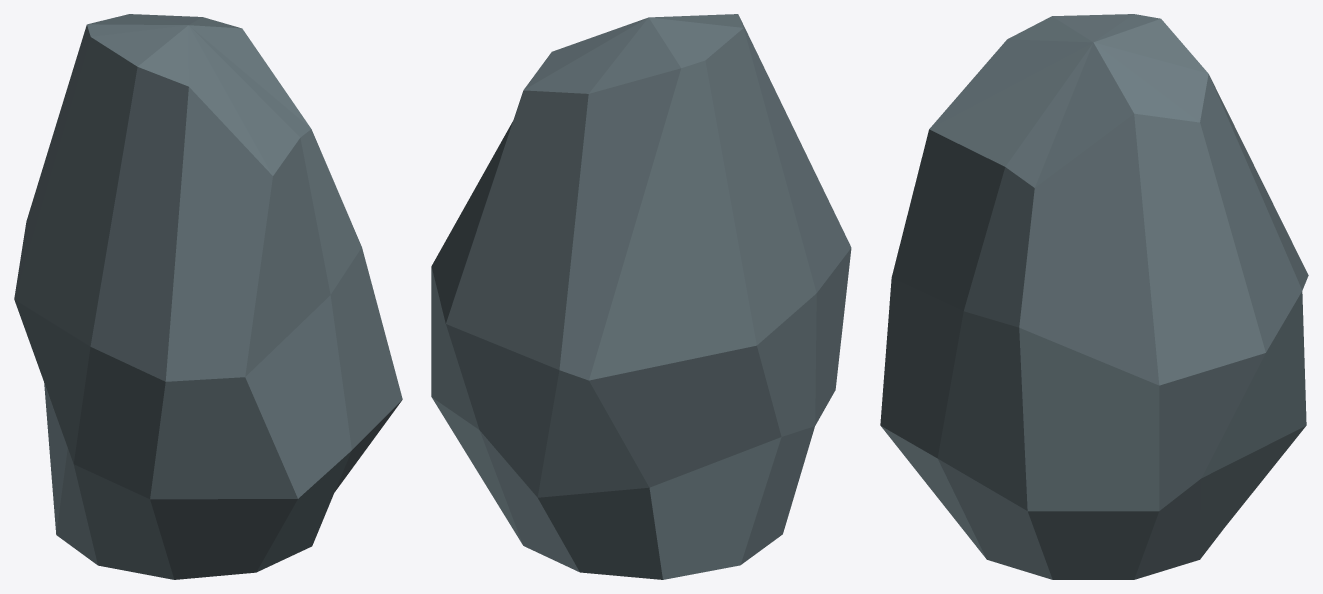
The model's file is Steen hoog2.fbx.
3 views of the same model, side by side, from view 1: azimuth 30°, elevation 25°; view 2: azimuth 150°, elevation 25°; view 3: azimuth 270°, elevation 25° (orthographic). The views are drawn at different scales.
Visible parts, largest first — view 1: Sphere.002; view 2: Sphere.002; view 3: Sphere.002.
Boxes of the visible parts, left/top/right/bottom form: Sphere.002: left=14, top=14, right=402, bottom=579; Sphere.002: left=431, top=14, right=851, bottom=579; Sphere.002: left=880, top=14, right=1308, bottom=579.
Size of the model in its own units: 92.65 by 137 by 110.
